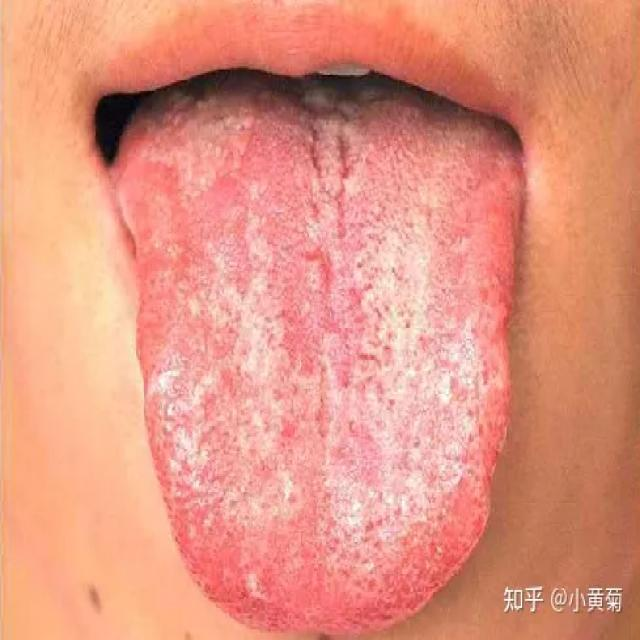tongue: (109, 86, 537, 640)
